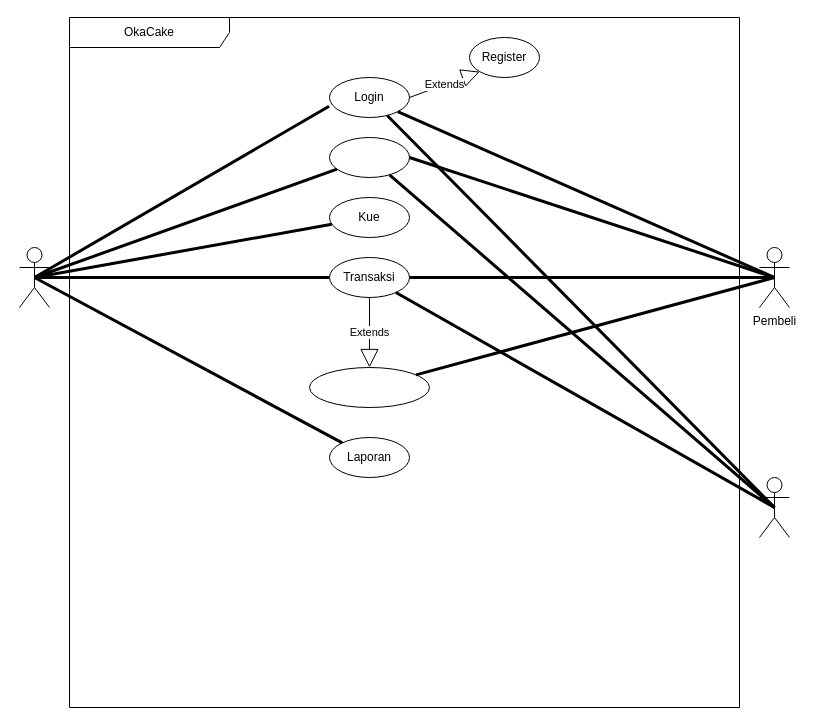
Image size: 813x725. Some labels were removed from this diagram. The box of each missing label's shape, as (x1, y1, x2, y2) in pixels:
Admin: (18, 246, 50, 308)
Detail_Transaksi: (308, 366, 430, 408)
Kurir: (758, 476, 790, 538)
Profil: (328, 136, 410, 178)
